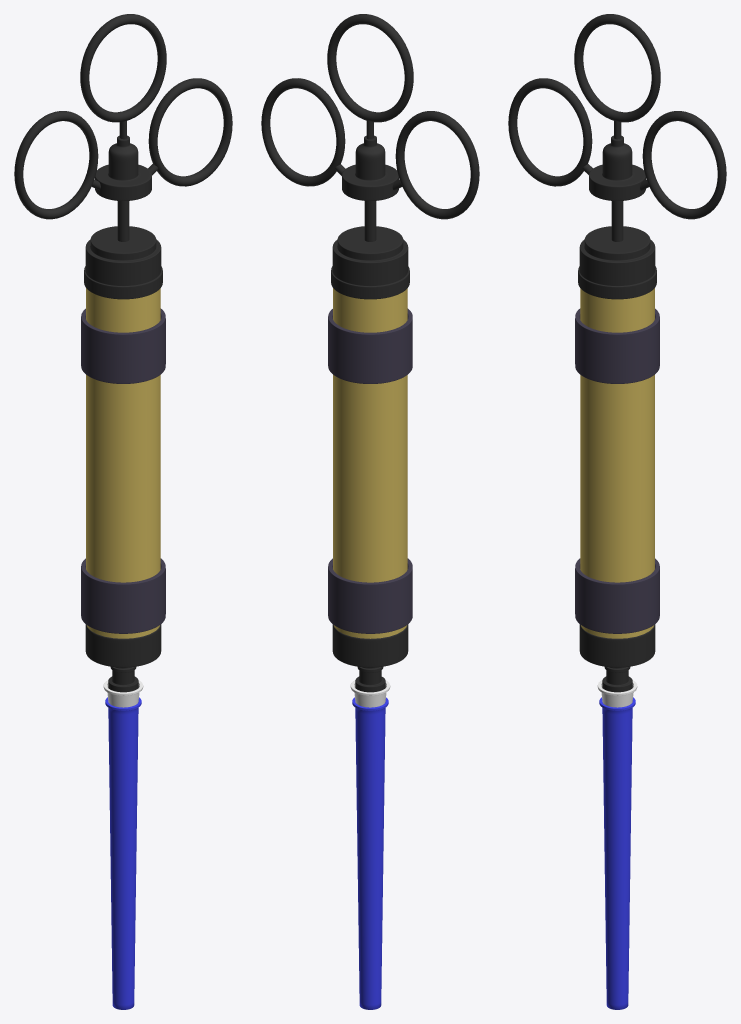
The model's file is watson syringe.fbx.
3 renders of one model, left to right at view 1: azimuth 30°, elevation 25°; view 2: azimuth 150°, elevation 25°; view 3: azimuth 330°, elevation 25°, orthographic.
Parts seen in each view (by area): view 1: Cylinder001, Cylinder022, Cylinder006 (×2), Cylinder008, Cylinder024, Cylinder027, Cylinder026, Cylinder005, Cylinder021, Cylinder002; view 2: Cylinder001, Cylinder022, Cylinder006 (×2), Cylinder008, Cylinder024, Cylinder026, Cylinder027, Cylinder005, Cylinder021, Cylinder002; view 3: Cylinder001, Cylinder022, Cylinder006 (×2), Cylinder008, Cylinder024, Cylinder027, Cylinder026, Cylinder005, Cylinder021, Cylinder002.
Part boxes in pixels (x1=…): Cylinder001: x1=86, y1=288, x2=160, y2=638; Cylinder022: x1=105, y1=697, x2=141, y2=1009; Cylinder006 (×2): x1=80, y1=14, x2=166, y2=692; Cylinder008: x1=14, y1=78, x2=232, y2=219; Cylinder024: x1=84, y1=226, x2=162, y2=299; Cylinder027: x1=81, y1=308, x2=165, y2=383; Cylinder026: x1=81, y1=558, x2=165, y2=633; Cylinder005: x1=95, y1=135, x2=151, y2=200; Cylinder021: x1=103, y1=680, x2=143, y2=707; Cylinder002: x1=117, y1=201, x2=129, y2=241; Cylinder001: x1=333, y1=288, x2=407, y2=638; Cylinder022: x1=352, y1=697, x2=388, y2=1009; Cylinder006 (×2): x1=327, y1=14, x2=413, y2=692; Cylinder008: x1=261, y1=78, x2=479, y2=219; Cylinder024: x1=331, y1=226, x2=409, y2=299; Cylinder026: x1=328, y1=558, x2=412, y2=633; Cylinder027: x1=328, y1=308, x2=412, y2=383; Cylinder005: x1=342, y1=135, x2=398, y2=200; Cylinder021: x1=350, y1=680, x2=390, y2=707; Cylinder002: x1=364, y1=201, x2=376, y2=241; Cylinder001: x1=580, y1=288, x2=654, y2=638; Cylinder022: x1=599, y1=697, x2=635, y2=1009; Cylinder006 (×2): x1=574, y1=14, x2=660, y2=692; Cylinder008: x1=508, y1=78, x2=726, y2=219; Cylinder024: x1=578, y1=226, x2=656, y2=299; Cylinder027: x1=575, y1=308, x2=659, y2=383; Cylinder026: x1=575, y1=558, x2=659, y2=633; Cylinder005: x1=589, y1=135, x2=645, y2=200; Cylinder021: x1=597, y1=680, x2=637, y2=707; Cylinder002: x1=611, y1=201, x2=623, y2=241.
Size of the model in its own units: 23.17 by 101 by 7.85.
